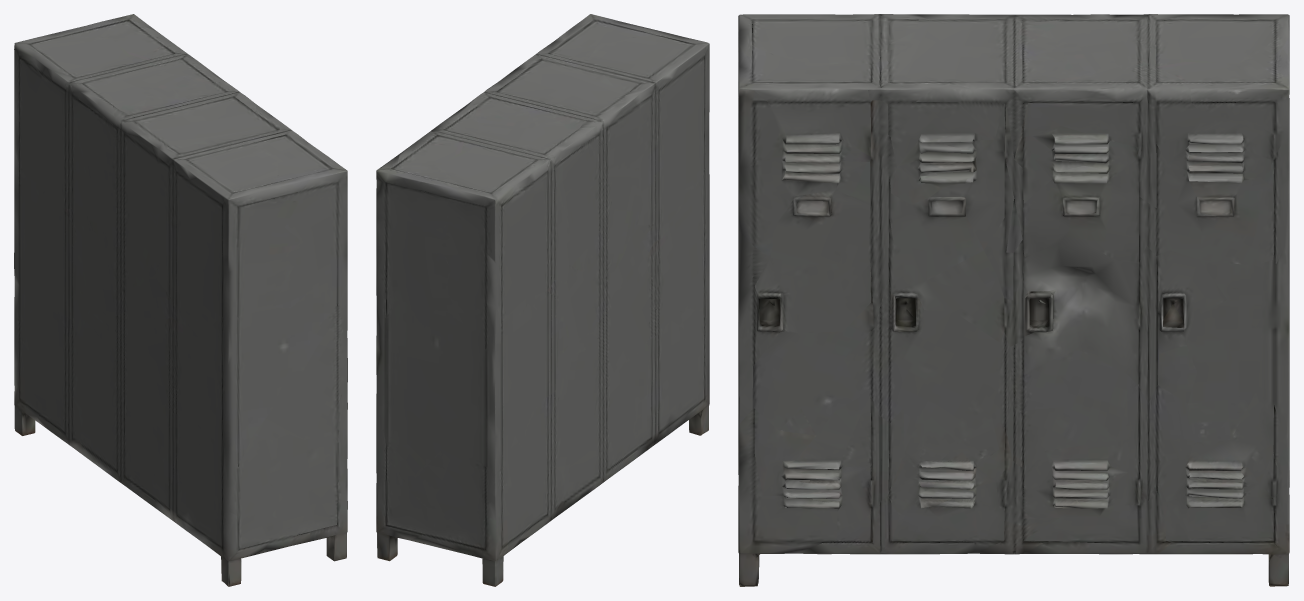
Rendered from locker.glb.
3 views of the same model, side by side, from view 1: azimuth 30°, elevation 25°; view 2: azimuth 150°, elevation 25°; view 3: azimuth 270°, elevation 25° (orthographic). The views are drawn at different scales.
Visible parts, largest first — view 1: tripo_node_22150c3e-1c9b-4d1f-9a6c-d2a9ae141c8c; view 2: tripo_node_22150c3e-1c9b-4d1f-9a6c-d2a9ae141c8c; view 3: tripo_node_22150c3e-1c9b-4d1f-9a6c-d2a9ae141c8c.
Boxes of the visible parts, left/top/right/bottom form: tripo_node_22150c3e-1c9b-4d1f-9a6c-d2a9ae141c8c: left=14, top=14, right=347, bottom=586; tripo_node_22150c3e-1c9b-4d1f-9a6c-d2a9ae141c8c: left=376, top=14, right=709, bottom=586; tripo_node_22150c3e-1c9b-4d1f-9a6c-d2a9ae141c8c: left=738, top=14, right=1289, bottom=586.
Size of the model in its own units: 0.3408 by 0.9987 by 1.
1 material, 1 textured.
